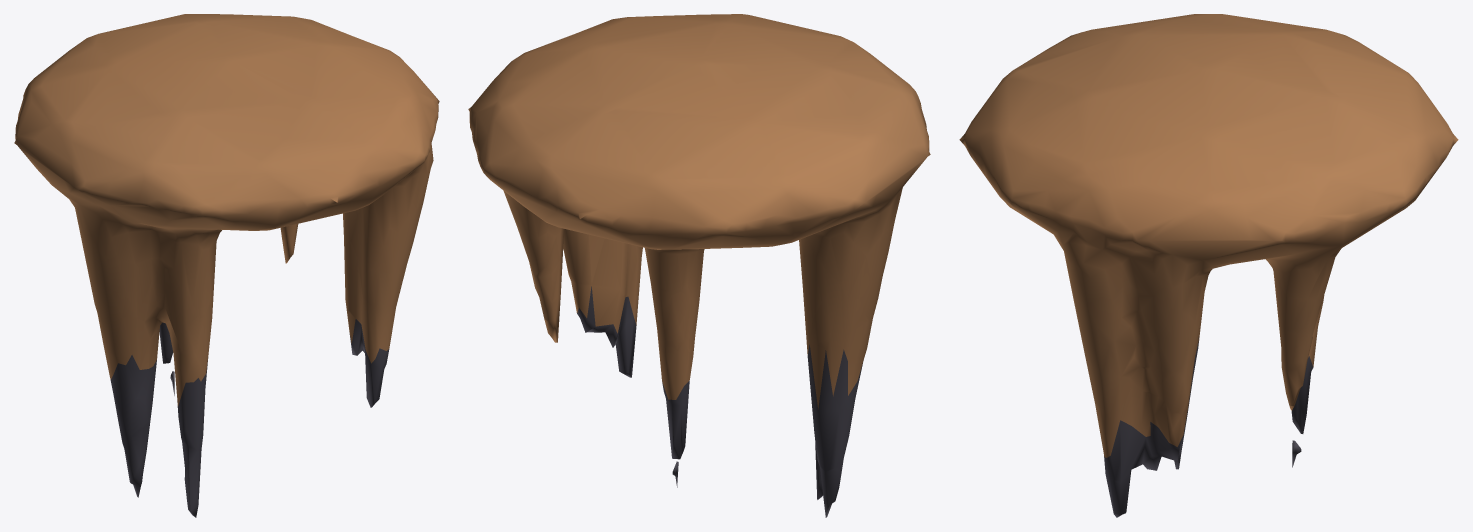
The model's file is shore_stalactite.glb.
3 views of the same model, side by side, from view 1: azimuth 30°, elevation 25°; view 2: azimuth 150°, elevation 25°; view 3: azimuth 270°, elevation 25° (orthographic). The views are drawn at different scales.
Visible parts, largest first — view 1: shore_stalactite; view 2: shore_stalactite; view 3: shore_stalactite.
Boxes of the visible parts, <box> form: shore_stalactite: <box>14,14,439,517</box>; shore_stalactite: <box>468,14,930,517</box>; shore_stalactite: <box>959,14,1458,517</box>.
Bounding box in the file's own units: 2.3 × 2.49 × 2.4.
